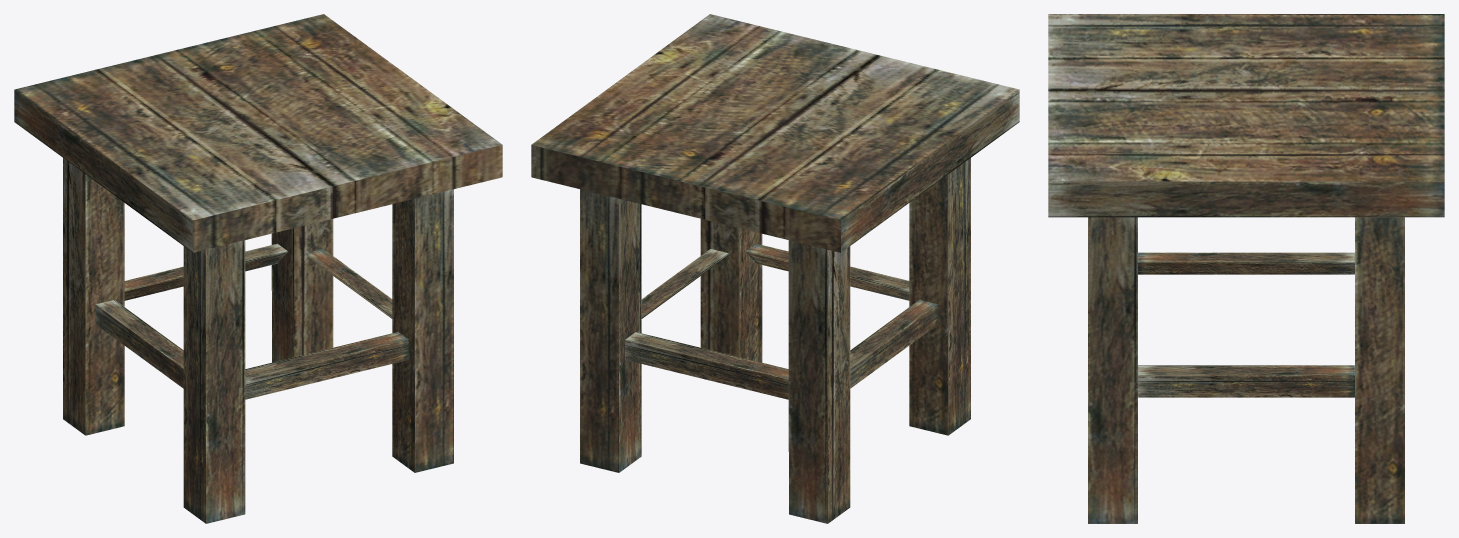
File: chair4.glb
3 views of the same model, side by side, from view 1: azimuth 30°, elevation 25°; view 2: azimuth 150°, elevation 25°; view 3: azimuth 270°, elevation 25° (orthographic). The views are drawn at different scales.
Visible parts, largest first — view 1: chair4-col; view 2: chair4-col; view 3: chair4-col.
Part boxes in pixels (x1,y1,x2,y2): chair4-col: (14,14,502,523); chair4-col: (531,14,1019,523); chair4-col: (1048,14,1444,523).
Bounding box in the file's own units: 0.5 × 0.5 × 0.5.
1 material, 1 textured.
